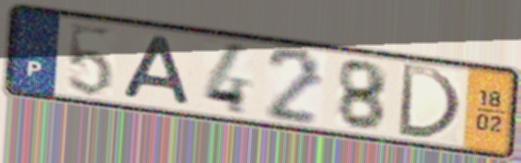2: (261, 43, 330, 130)
4: (197, 40, 255, 118)
5: (64, 20, 118, 98)
8: (335, 58, 391, 133)
A: (119, 32, 194, 108)
D: (393, 61, 464, 143)
